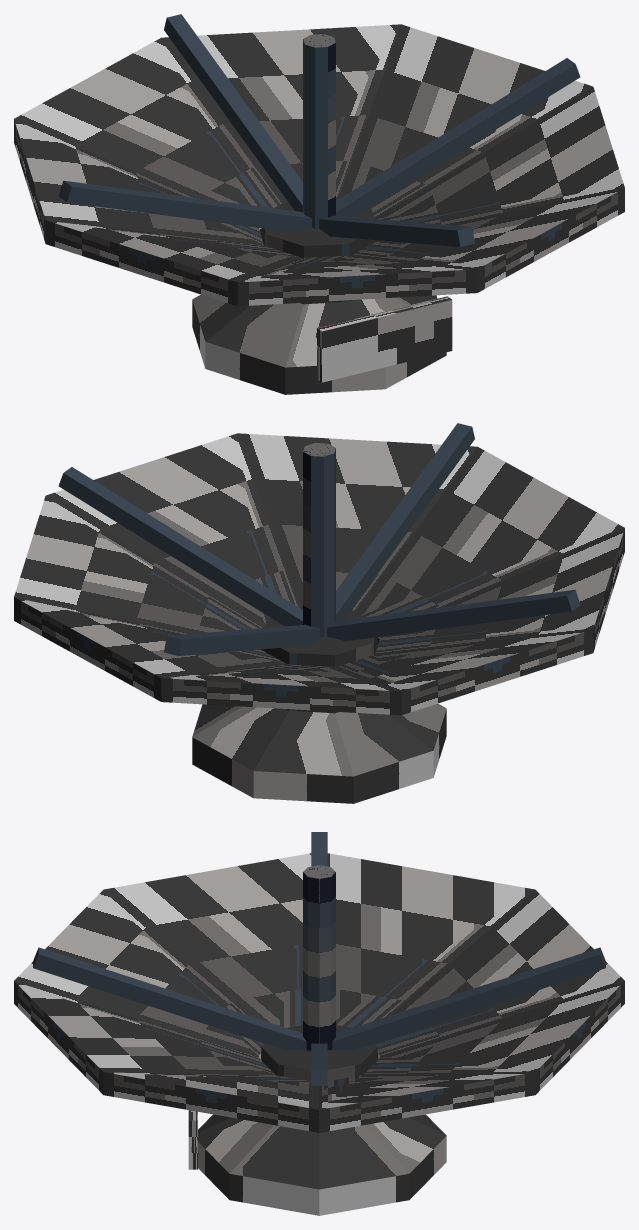
Rendered from telecomms_dish.glb.
The picture shows the model from 3 angles, top to bottom: view 1: azimuth 30°, elevation 25°; view 2: azimuth 150°, elevation 25°; view 3: azimuth 270°, elevation 25°; orthographic projection. The views are drawn at different scales.
Parts seen in each view (by area): view 1: Dish_Frame, Service_Hatch; view 2: Dish_Frame; view 3: Dish_Frame.
Part boxes in pixels (x1,y1,x2,y2): Dish_Frame: (14, 14, 624, 394); Service_Hatch: (318, 297, 452, 382); Dish_Frame: (14, 423, 624, 803); Dish_Frame: (14, 832, 624, 1215).
Size of what is drawn, in the model's own units: 1.68 by 0.88 by 1.68.
Materials: 1 (1 with a texture image).
